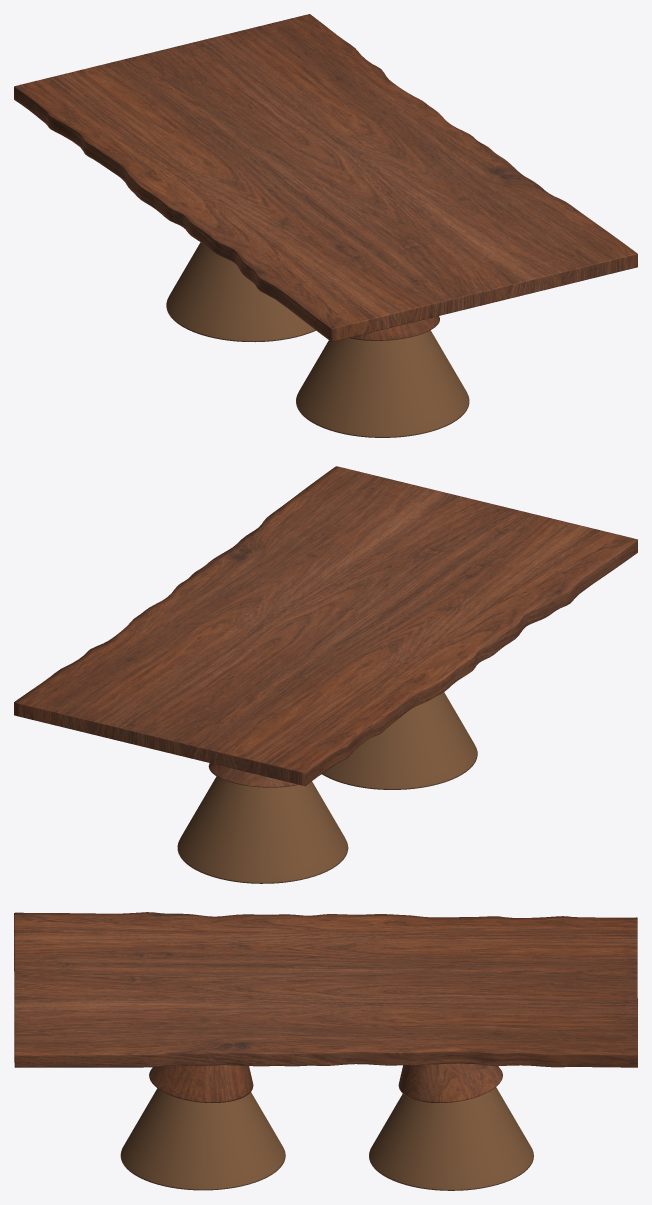
File: St_Hilker_Boney_M.glb
The picture shows the model from 3 angles, top to bottom: view 1: azimuth 30°, elevation 25°; view 2: azimuth 150°, elevation 25°; view 3: azimuth 270°, elevation 25°; orthographic projection. The views are drawn at different scales.
Parts seen in each view (by area): view 1: Boney M03; view 2: Boney M03; view 3: Boney M03.
Boxes of the visible parts, x1,y1,x2,y2 form: Boney M03: (14, 14, 637, 437); Boney M03: (14, 466, 637, 883); Boney M03: (14, 912, 637, 1190).
Bounding box in the file's own units: 1.42 × 0.8 × 2.61.
3 materials, 2 textured.
